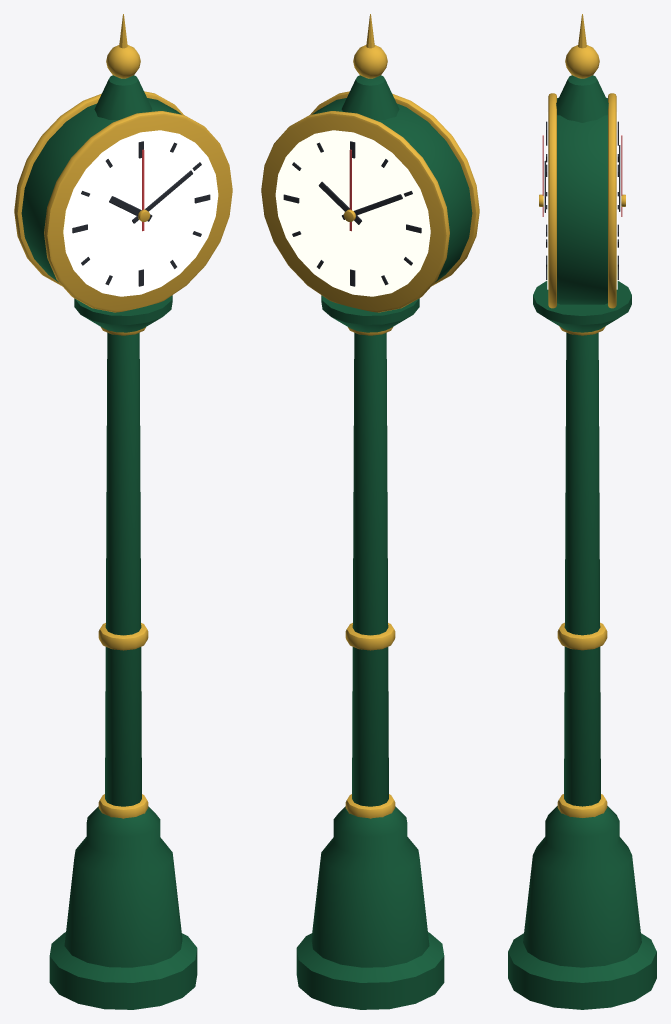
Rendered from relogio_rua.glb.
3 renders of one model, left to right at view 1: azimuth 30°, elevation 25°; view 2: azimuth 150°, elevation 25°; view 3: azimuth 270°, elevation 25°, orthographic.
Parts seen in each view (by area): view 1: relogio_rua; view 2: relogio_rua; view 3: relogio_rua.
Boxes of the visible parts, x1,y1,x2,y2 form: relogio_rua: [14, 14, 232, 1009]; relogio_rua: [261, 14, 479, 1009]; relogio_rua: [508, 14, 656, 1009].
Bounding box in the file's own units: 0.87 × 4.29 × 0.6.
Materials: 2 (1 with a texture image).
